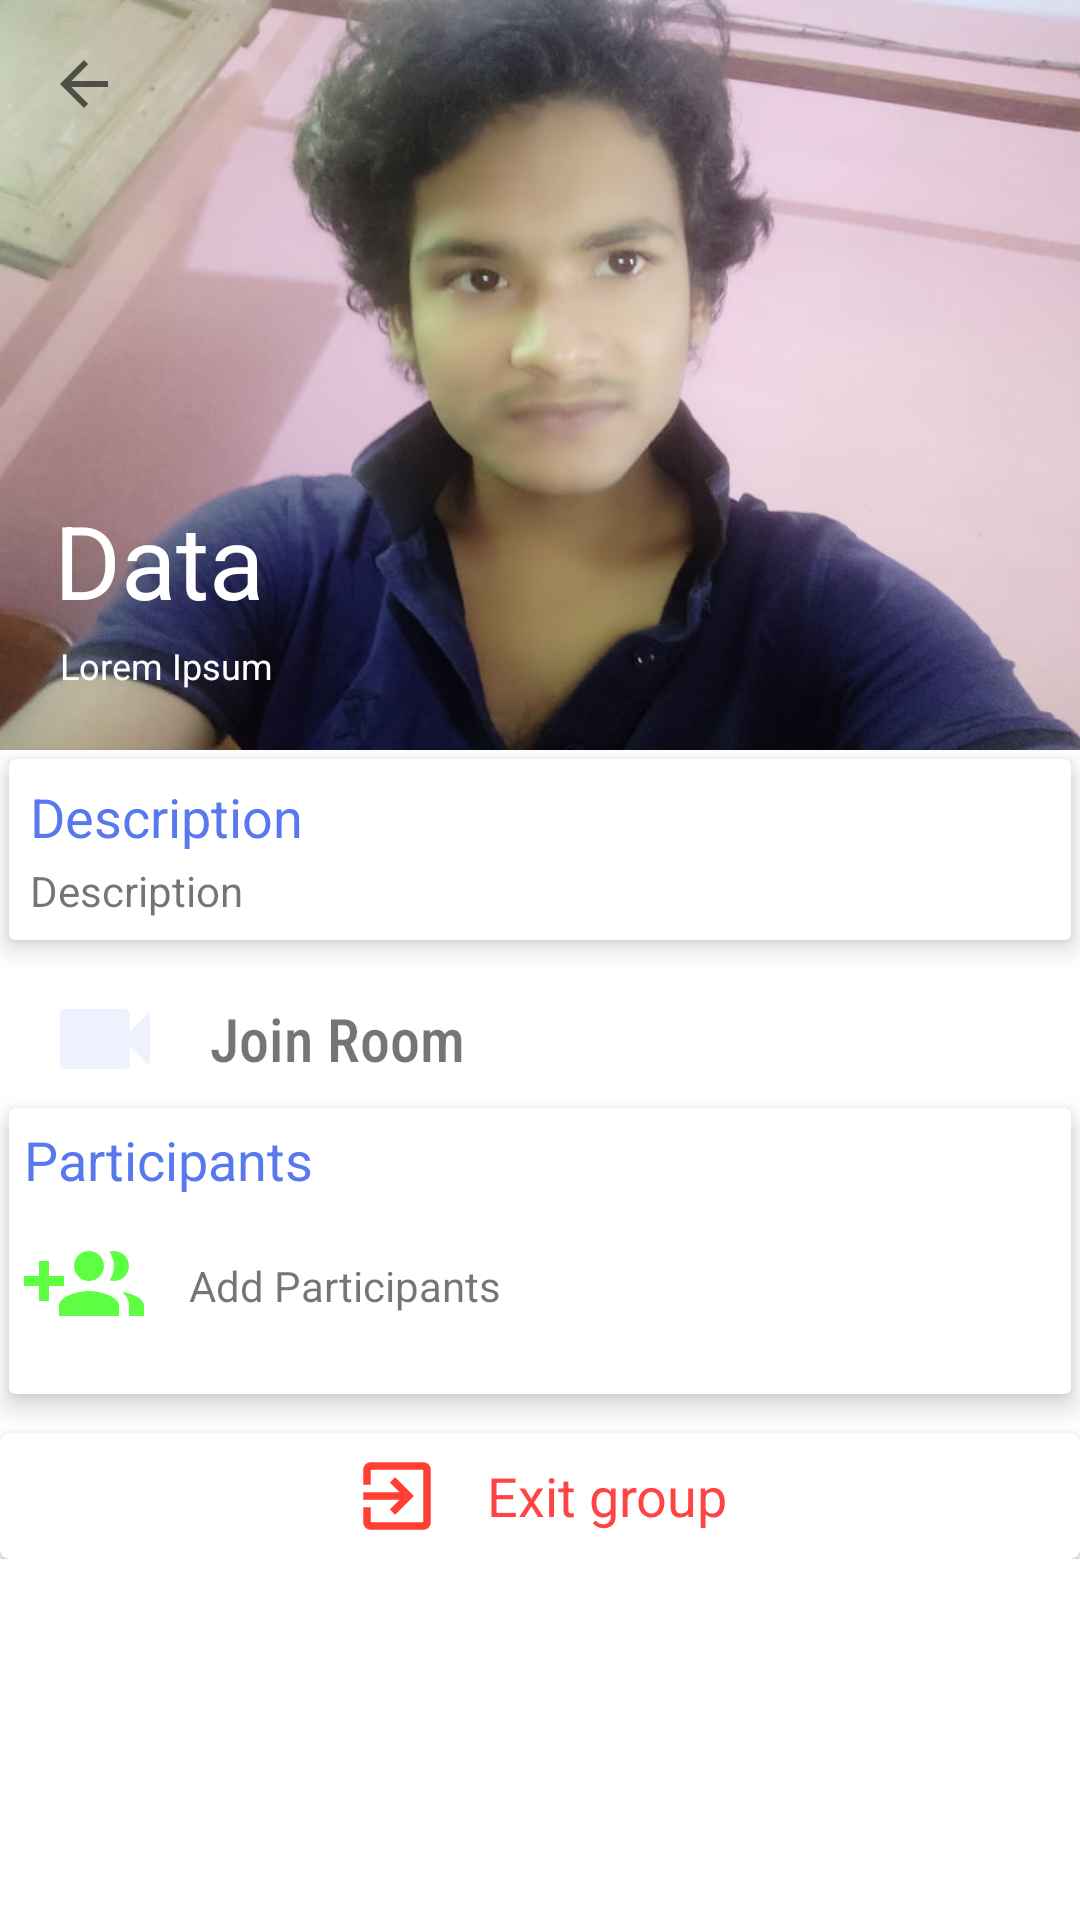

Where icons sit on this 1080x1920 app screen, as rect(x1, y1, x2, y2):
exit to app: rect(363, 1462, 431, 1530)
group add: rect(24, 1251, 144, 1316)
